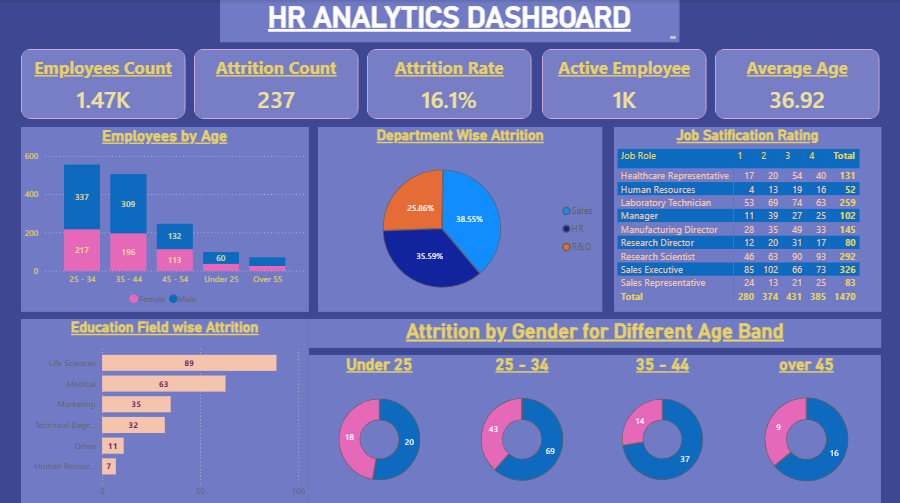

The dashboard page shown, as its layout file describes it:
{"tool":"powerbi","page":{"name":"Page 1","canvas":[1280,720],"ordinal":0},"visuals":[{"type":"cardVisual","fields":{"Data":["CountNonNull(Table_1.Employee Count)"]},"box":[32.6,69.4,233.9,99.2],"z":0},{"type":"cardVisual","fields":{"Data":["Avg(HR.Age)"]},"box":[1016.2,69.4,233.9,99.2],"z":1000},{"type":"cardVisual","fields":{"Data":["HR.Active Employee"]},"box":[771,69.4,233.9,99.2],"z":2000},{"type":"cardVisual","fields":{"Data":["HR.Rate"]},"box":[523,69.4,233.9,99.2],"z":3000},{"type":"cardVisual","fields":{"Data":["Sum(Table_1.count of attribtion)"]},"box":[277.8,69.4,233.9,99.2],"z":4000},{"type":"columnChart","title":"Employees by Age","fields":{"Category":["HR.CF_age band"],"Series":["HR.Gender"],"Y":["Sum(HR.Employee Count)"]},"box":[32.9,180.2,407.6,261.7],"z":5000},{"type":"pieChart","title":"Department Wise Attrition","fields":{"Category":["HR.Department"],"Y":["HR.Rate"]},"box":[453.4,180.2,403.3,261.7],"z":6000},{"type":"clusteredBarChart","title":" Education Field wise Attrition","fields":{"Y":["Sum(HR.count of attribtion)"],"Category":["HR.Education Field"]},"box":[32.9,451.9,407.6,261.7],"z":7000},{"type":"pivotTable","title":"Job Satification Rating","fields":{"Rows":["HR.Job Role"],"Columns":["HR.Job Satisfaction"],"Values":["CountNonNull(HR.Performance Rating)"]},"box":[872.4,180.2,379,261.7],"z":8000},{"type":"donutChart","title":"Under 25","fields":{"Category":["HR.Gender"],"Y":["Sum(HR.count of attribtion)"],"Series":["HR.CF_age band"]},"box":[440.8,503.1,199.8,211.2],"z":9000},{"type":"donutChart","title":" 25 - 34","fields":{"Category":["HR.Gender"],"Y":["Sum(HR.count of attribtion)"],"Series":["HR.CF_age band"]},"box":[640.6,503.1,204.1,211.2],"z":10000},{"type":"donutChart","title":"35 - 44","fields":{"Category":["HR.Gender"],"Y":["Sum(HR.count of attribtion)"],"Series":["HR.CF_age band"]},"box":[843.3,503.1,197,211.2],"z":11000},{"type":"donutChart","title":"over 45","fields":{"Category":["HR.Gender"],"Y":["Sum(HR.count of attribtion)"],"Series":["HR.CF_age band"]},"box":[1040.3,503.1,211.2,211.2],"z":12000},{"type":"textbox","title":"Attrition by Gender for Different Age Band","box":[440.8,452.1,810.7,41.1],"z":13000},{"type":"textbox","title":"HR ANALYTICS DASHBOARD","box":[314.6,0,650.6,59.5],"z":14000}]}

Visuals, with their boxes in screenshot pixels (x1, y1, x2, y2), scaled from the page's 1280x720 canvas onto the 900x503 screenshot:
cardVisual - CountNonNull(Table_1.Employee Count): crop(23, 48, 187, 118)
cardVisual - Avg(HR.Age): crop(715, 48, 879, 118)
cardVisual - HR.Active Employee: crop(542, 48, 707, 118)
cardVisual - HR.Rate: crop(368, 48, 532, 118)
cardVisual - Sum(Table_1.count of attribtion): crop(195, 48, 360, 118)
"Employees by Age" columnChart: crop(23, 126, 310, 309)
"Department Wise Attrition" pieChart: crop(319, 126, 602, 309)
" Education Field wise Attrition" clusteredBarChart: crop(23, 316, 310, 499)
"Job Satification Rating" pivotTable: crop(613, 126, 880, 309)
"Under 25" donutChart: crop(310, 351, 450, 499)
" 25 - 34" donutChart: crop(450, 351, 594, 499)
"35 - 44" donutChart: crop(593, 351, 731, 499)
"over 45" donutChart: crop(731, 351, 880, 499)
"Attrition by Gender for Different Age Band" textbox: crop(310, 316, 880, 345)
"HR ANALYTICS DASHBOARD" textbox: crop(221, 0, 679, 42)
